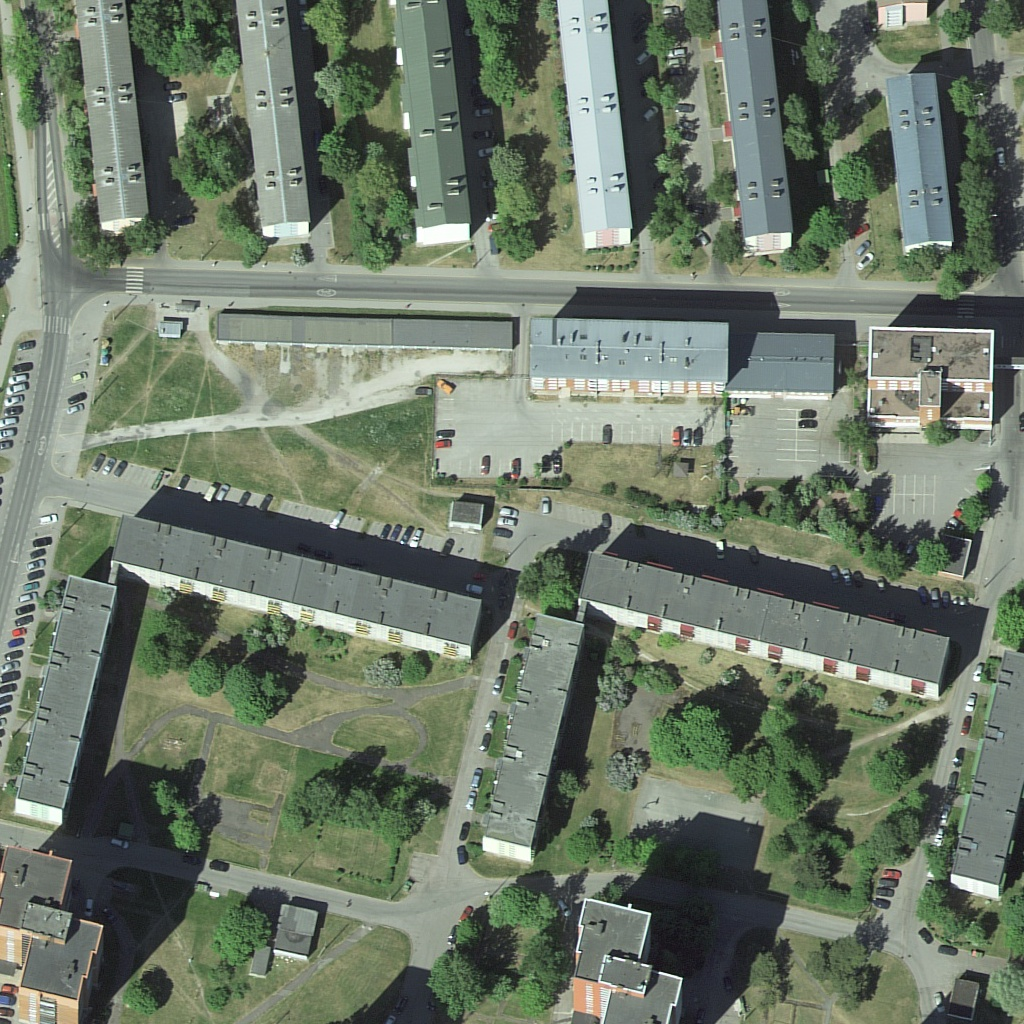building: (110, 510, 487, 658), (576, 550, 958, 696), (8, 572, 118, 830), (480, 613, 582, 865), (710, 1, 800, 257), (552, 1, 637, 249), (236, 1, 316, 241), (1, 843, 105, 1022), (947, 650, 1020, 897), (76, 1, 155, 229), (525, 313, 729, 399), (398, 1, 470, 241), (884, 71, 965, 255), (861, 324, 995, 430), (575, 902, 683, 1024), (730, 331, 841, 399)
